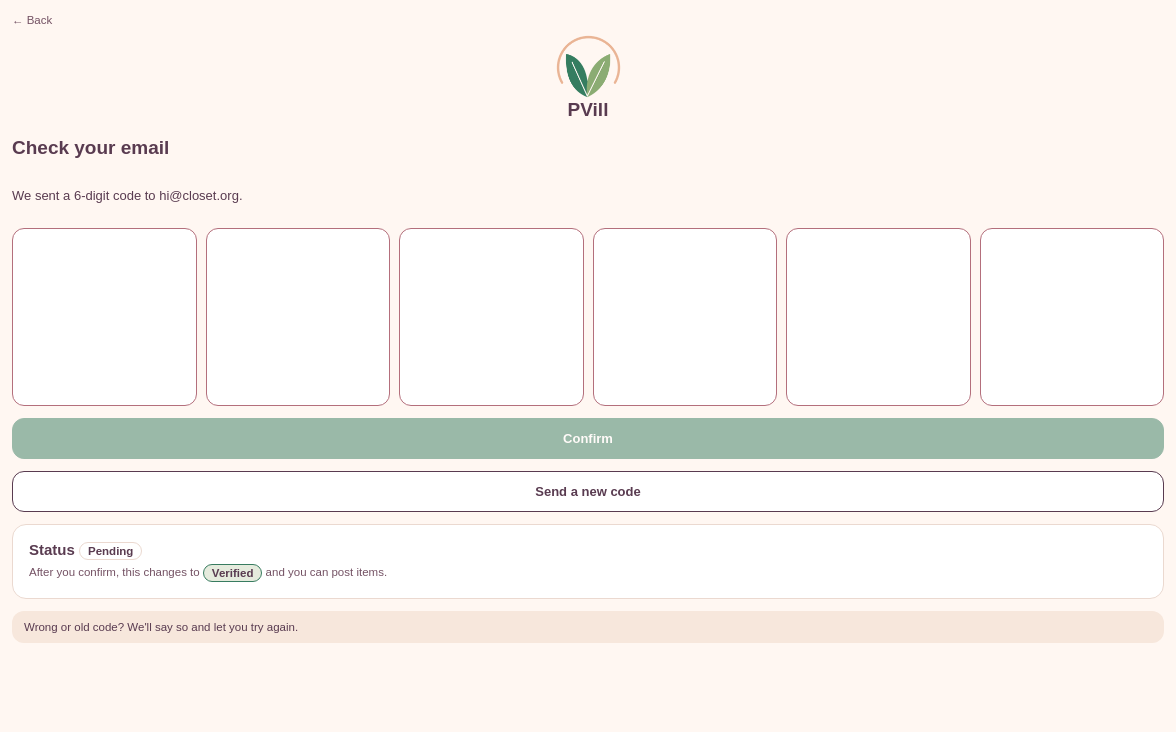
OrgVerifyPage › shows a failed resend
This screenshot has width=1176, height=732.
Click the button "Send a new code" at (588, 491), box [12,471,1164,512]
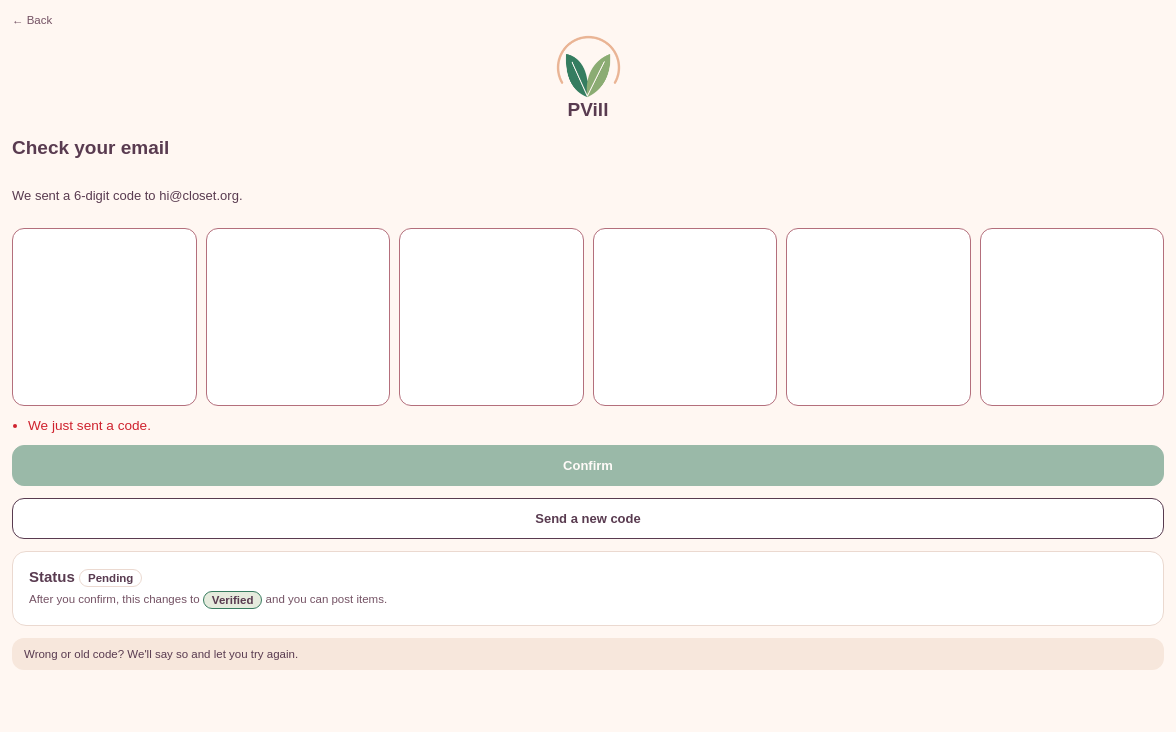
Now the list item "We just sent a code." is shown, box [28,418,151,433]
